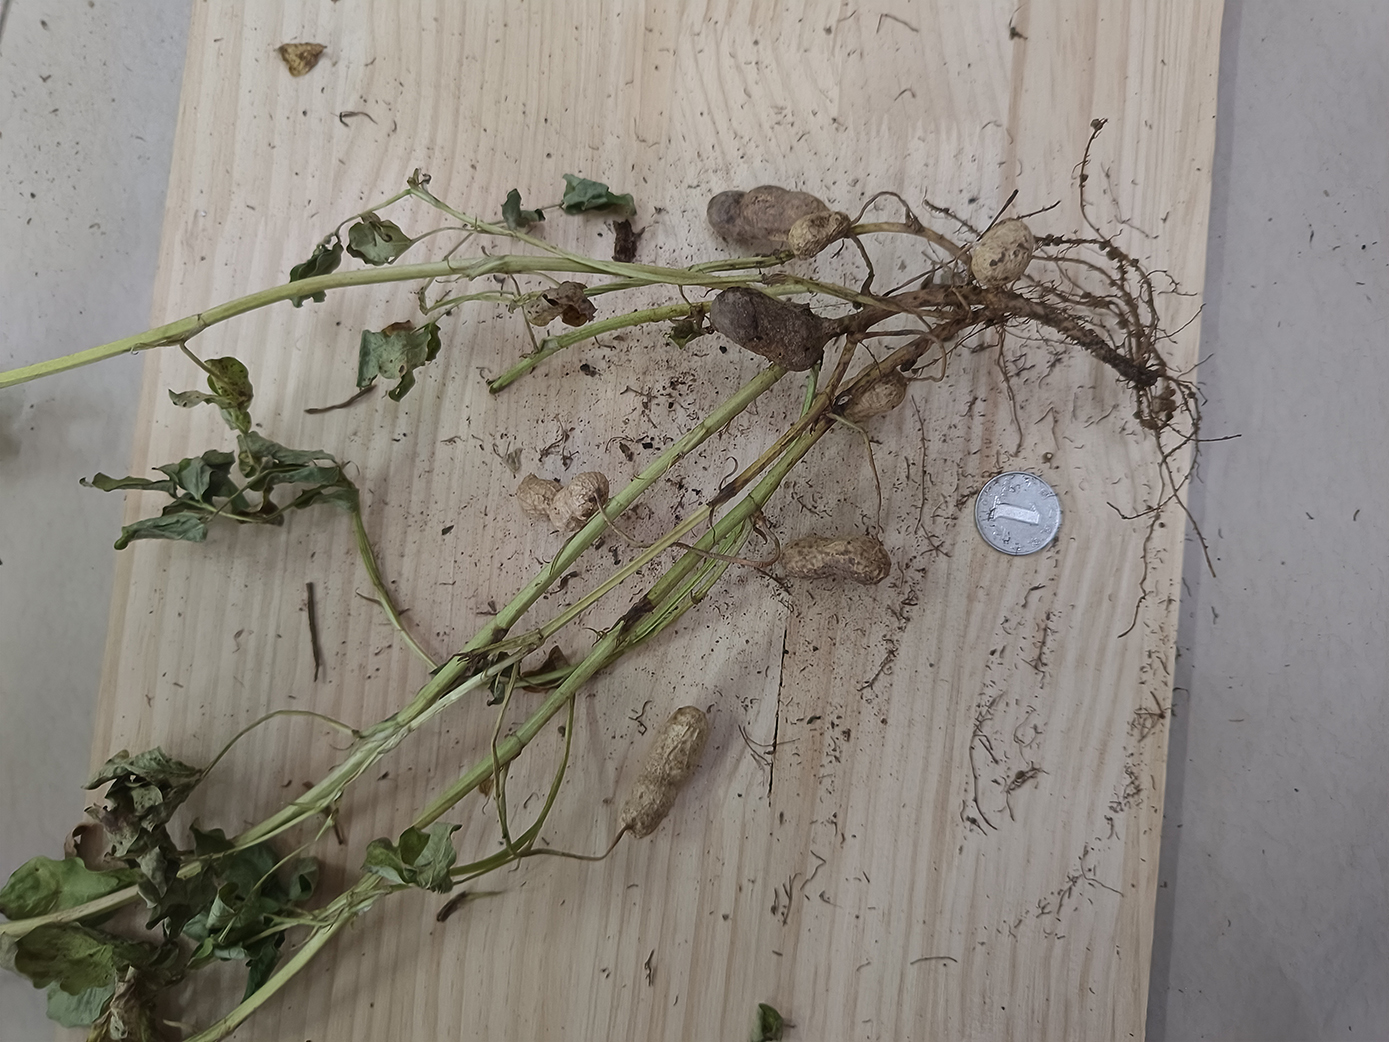h: (621, 705, 707, 841), (782, 537, 891, 587), (518, 471, 610, 529), (971, 218, 1034, 286), (835, 367, 907, 422), (789, 211, 848, 254)
l: (710, 287, 821, 370), (707, 184, 829, 253)
